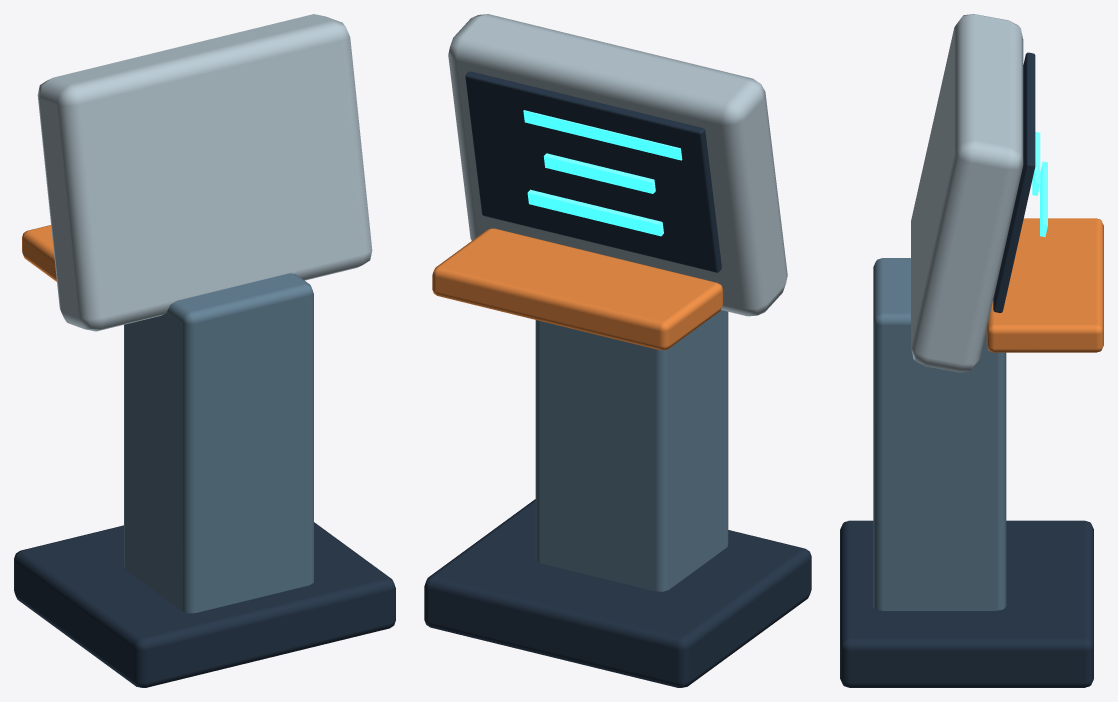
Rendered from terminal.glb.
3 renders of one model, left to right at view 1: azimuth 30°, elevation 25°; view 2: azimuth 150°, elevation 25°; view 3: azimuth 270°, elevation 25°, orthographic. The views are drawn at different scales.
Parts seen in each view (by area): view 1: console, stem, base, keypad; view 2: stem, base, console, screen, keypad, readout-2, readout-0, readout-1; view 3: stem, base, console, keypad, screen, readout-2, readout-1.
Boxes of the visible parts, left/top/right/bottom form: console: left=37, top=14, right=372, bottom=331; stem: left=124, top=273, right=313, bottom=613; base: left=14, top=522, right=395, bottom=687; keypad: left=22, top=225, right=56, bottom=281; stem: left=535, top=310, right=728, bottom=591; base: left=424, top=499, right=811, bottom=687; console: left=448, top=14, right=787, bottom=316; screen: left=465, top=71, right=721, bottom=272; keypad: left=432, top=228, right=723, bottom=350; readout-2: left=527, top=189, right=663, bottom=236; readout-0: left=523, top=110, right=682, bottom=160; readout-1: left=543, top=153, right=655, bottom=193; stem: left=873, top=258, right=1006, bottom=610; base: left=840, top=520, right=1093, bottom=687; console: left=911, top=14, right=1023, bottom=372; keypad: left=986, top=218, right=1103, bottom=352; screen: left=993, top=52, right=1035, bottom=312; readout-2: left=1040, top=161, right=1047, bottom=236; readout-1: left=1032, top=132, right=1040, bottom=195.
Size of the model in its own units: 0.85 by 1.56 by 0.675.
